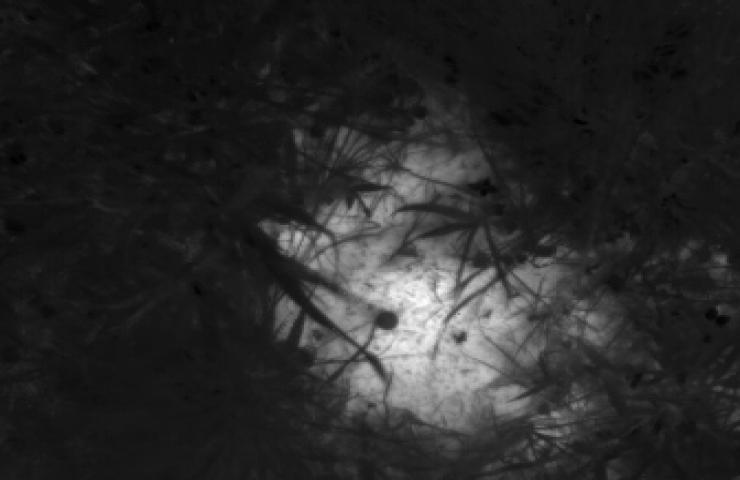landmines: (260, 84, 619, 480)
